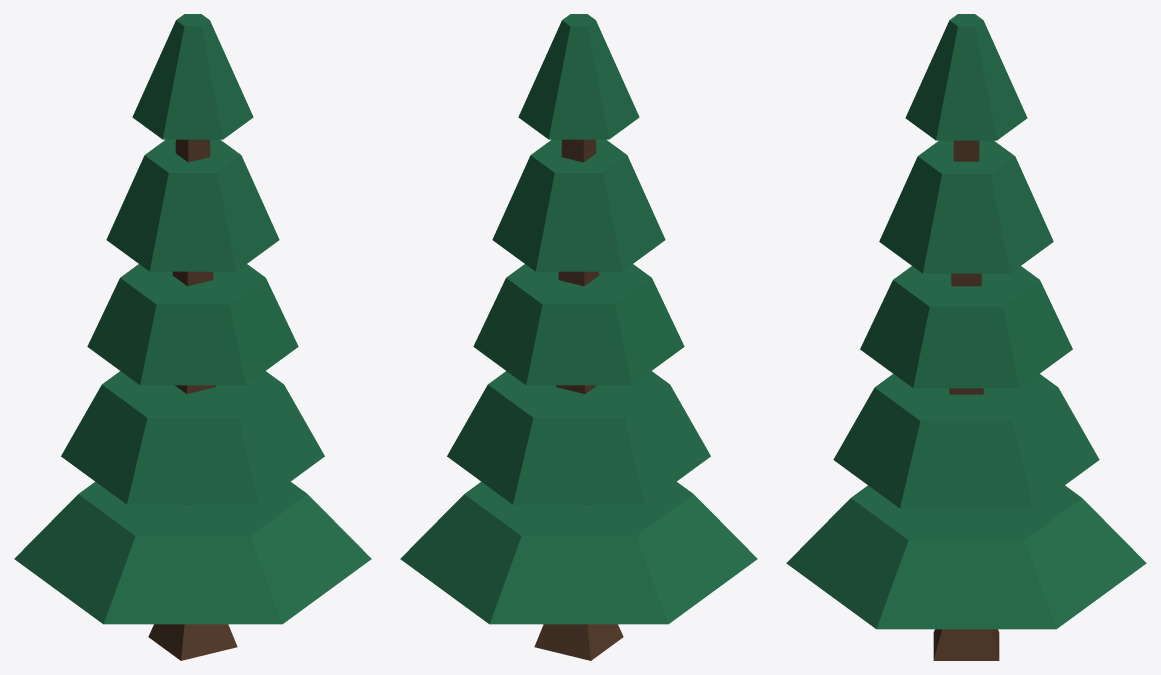
File: halo_tree_pinerounda.obj
3 views of the same model, side by side, from view 1: azimuth 30°, elevation 25°; view 2: azimuth 150°, elevation 25°; view 3: azimuth 270°, elevation 25° (orthographic).
Parts seen in each view (by area): view 1: tree_pineRoundA; view 2: tree_pineRoundA; view 3: tree_pineRoundA.
Boxes of the visible parts, x1,y1,x2,y2 form: tree_pineRoundA: (14, 14, 371, 660); tree_pineRoundA: (400, 14, 757, 660); tree_pineRoundA: (786, 14, 1146, 660).
Bounding box in the file's own units: 0.617 × 1.37 × 0.7125.
